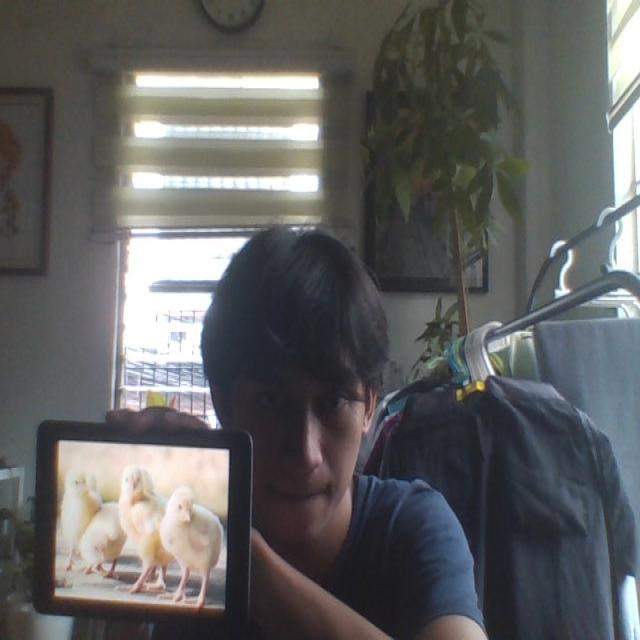Healthy: (116, 462, 170, 598), (160, 485, 218, 604), (63, 465, 99, 537)
Sick: (86, 500, 128, 584)
